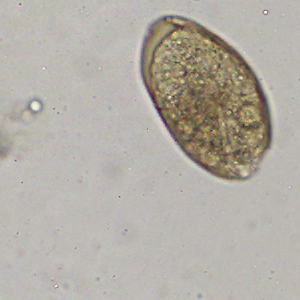Fasciola_hepatica_egg: (138, 13, 276, 184)
